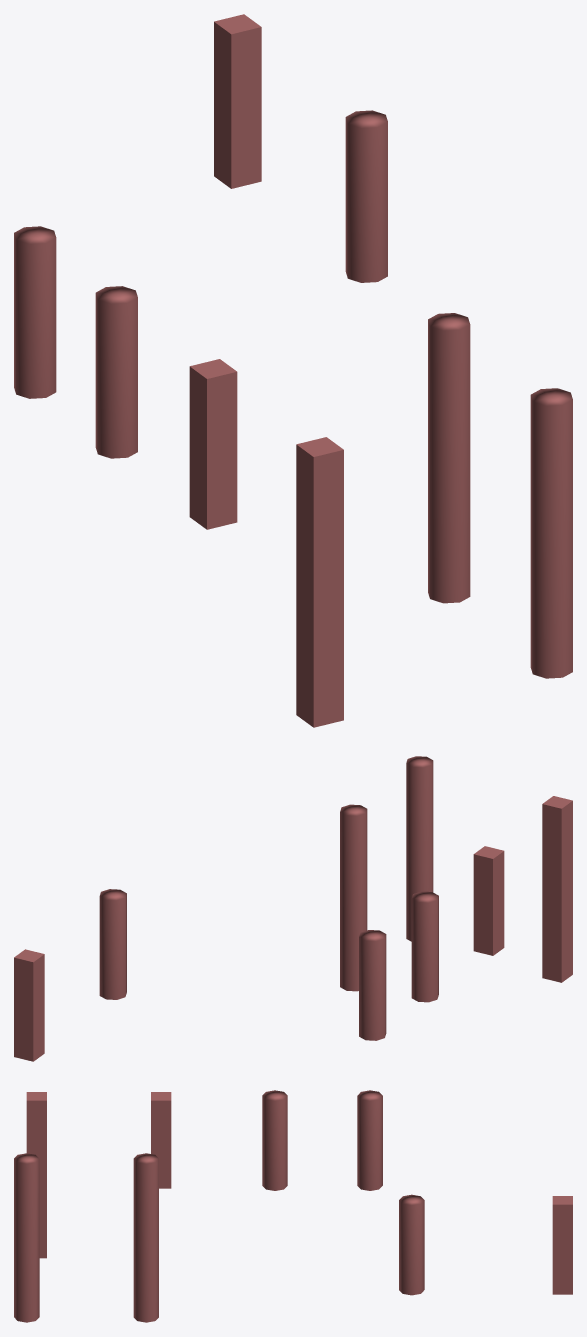
The model's file is MOD_ LOBBY lobby columns.fbx.
The picture shows the model from 3 angles, top to bottom: view 1: azimuth 30°, elevation 25°; view 2: azimuth 150°, elevation 25°; view 3: azimuth 270°, elevation 25°; orthographic projection. The views are drawn at different scales.
Visible parts, largest first — view 1: pCube65, pCylinder3, pCylinder4, pCube54, pCube66, pCylinder2, pCylinder11, pCylinder5; view 2: pCube65, pCylinder3, pCylinder4, pCube66, pCube54, pCylinder11, pCylinder2, pCylinder5; view 3: pCylinder3, pCylinder4, pCylinder2, pCylinder5, pCylinder11, pCube65, pCube54, pCube66.
Part boxes in pixels (x1,y1,x2,y2): pCube65: [296, 437, 343, 727]; pCylinder3: [428, 313, 470, 603]; pCylinder4: [530, 388, 572, 678]; pCube54: [214, 14, 261, 188]; pCube66: [189, 359, 237, 529]; pCylinder2: [345, 110, 387, 282]; pCylinder11: [95, 286, 137, 458]; pCylinder5: [14, 226, 56, 398]; pCube65: [542, 796, 572, 982]; pCylinder3: [340, 804, 367, 991]; pCylinder4: [406, 756, 433, 941]; pCube66: [473, 846, 504, 955]; pCube54: [14, 949, 44, 1061]; pCylinder11: [411, 891, 438, 1002]; pCylinder2: [99, 889, 126, 999]; pCylinder5: [359, 930, 386, 1040]; pCylinder3: [133, 1153, 158, 1322]; pCylinder4: [14, 1153, 39, 1322]; pCylinder2: [399, 1194, 424, 1295]; pCylinder5: [357, 1090, 382, 1190]; pCylinder11: [262, 1090, 287, 1190]; pCube65: [26, 1092, 46, 1258]; pCube54: [552, 1196, 572, 1294]; pCube66: [151, 1092, 171, 1188].
Size of the model in its own units: 1097 by 705 by 2251.
